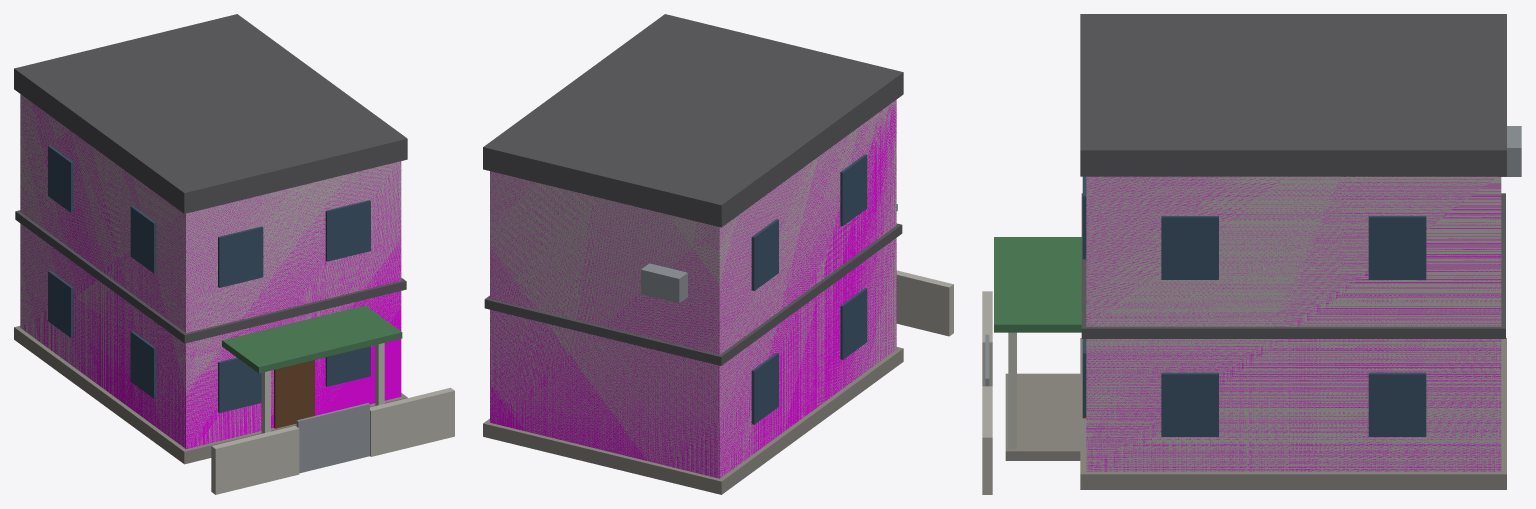
The model's file is House_2S_01.glb.
The picture shows the model from 3 angles, left to right: view 1: azimuth 30°, elevation 25°; view 2: azimuth 150°, elevation 25°; view 3: azimuth 270°, elevation 25°; orthographic projection. The views are drawn at different scales.
Visible parts, largest first — view 1: House_2S_01, House_2S_01_COL; view 2: House_2S_01, House_2S_01_COL; view 3: House_2S_01, House_2S_01_COL.
Part boxes in pixels (<box>): House_2S_01: <box>14,14,454,494</box>; House_2S_01_COL: <box>20,95,401,448</box>; House_2S_01: <box>483,14,953,494</box>; House_2S_01_COL: <box>490,100,896,478</box>; House_2S_01: <box>982,14,1521,494</box>; House_2S_01_COL: <box>1086,176,1501,471</box>.
Bounding box in the file's own units: 6 × 6.5 × 9.35.
